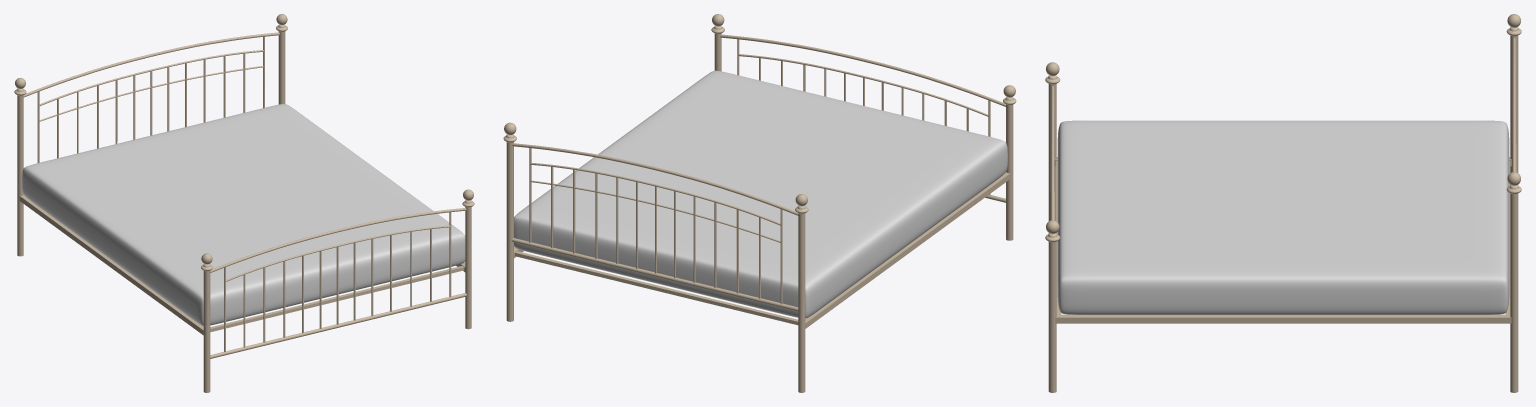
The model's file is 881_queen_bed.glb.
3 views of the same model, side by side, from view 1: azimuth 30°, elevation 25°; view 2: azimuth 150°, elevation 25°; view 3: azimuth 270°, elevation 25° (orthographic). The views are drawn at different scales.
Visible parts, largest first — view 1: matless, bed; view 2: matless, bed; view 3: matless, bed.
Boxes of the visible parts, x1,y1,x2,y2 form: matless: [22, 104, 465, 325]; bed: [14, 14, 474, 392]; matless: [514, 70, 1007, 318]; bed: [503, 14, 1016, 392]; matless: [1057, 120, 1509, 314]; bed: [1045, 14, 1521, 392].
Bounding box in the file's own units: 1.64 × 1.02 × 2.01.
